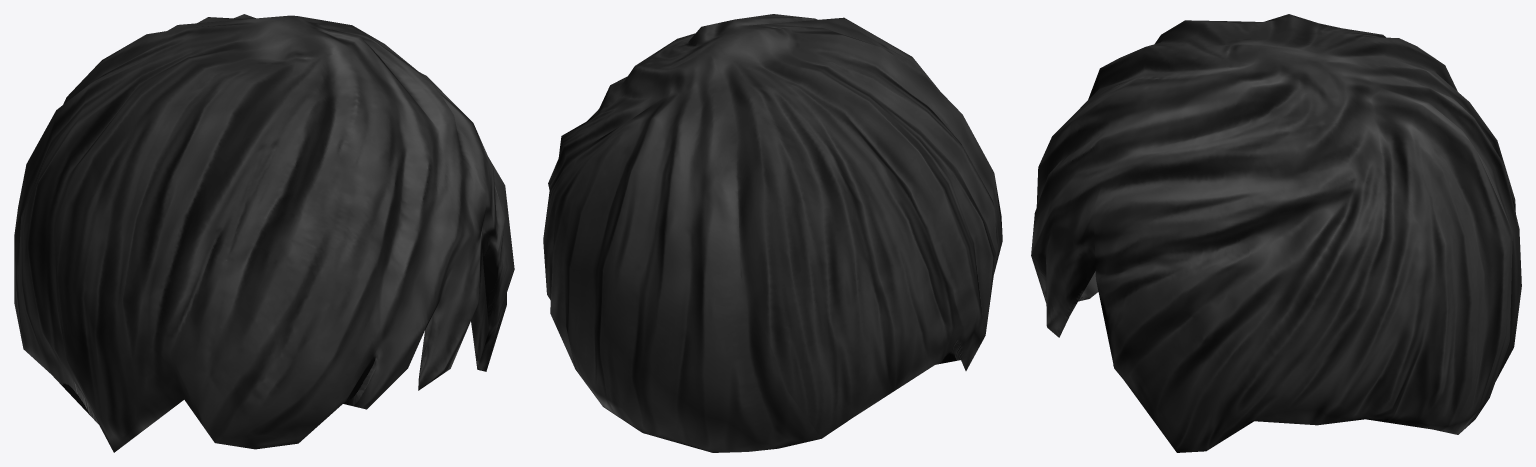
File: AF_M_hair_29.fbx
The picture shows the model from 3 angles, left to right: view 1: azimuth 30°, elevation 25°; view 2: azimuth 150°, elevation 25°; view 3: azimuth 270°, elevation 25°; orthographic projection. The views are drawn at different scales.
Visible parts, largest first — view 1: AF_M_hair_29; view 2: AF_M_hair_29; view 3: AF_M_hair_29.
Boxes of the visible parts, <box> form: AF_M_hair_29: <box>14,14,514,452</box>; AF_M_hair_29: <box>543,14,1002,452</box>; AF_M_hair_29: <box>1031,14,1521,452</box>.
Bounding box in the file's own units: 712 × 589 × 715.
